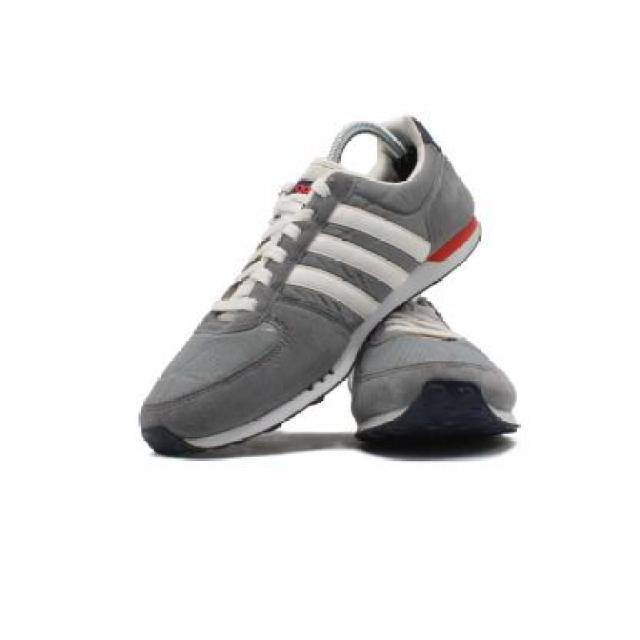Adidas: (284, 193, 438, 334)
